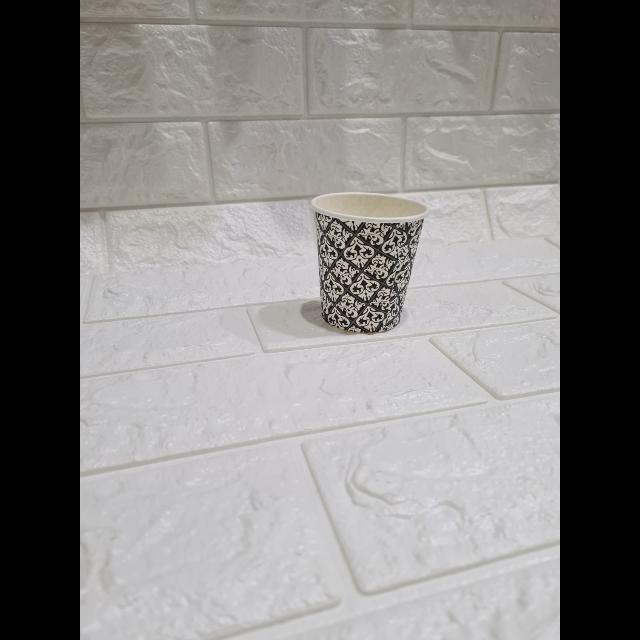trash: (299, 186, 431, 334)
